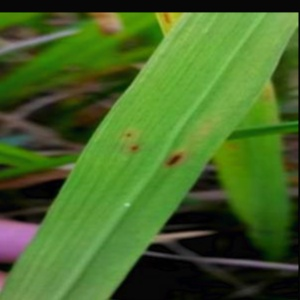Bacterial_Leaf_Blight: (160, 147, 191, 171), (126, 140, 146, 154), (123, 130, 135, 140)
